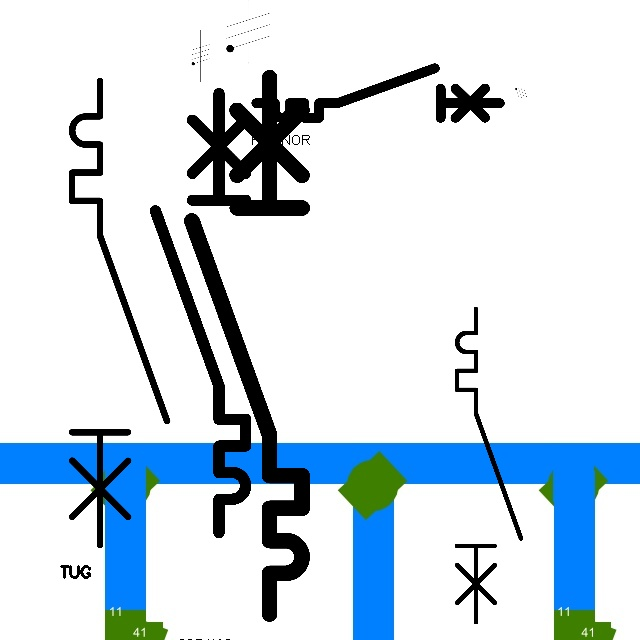interruptor_termomagnetico: (178, 63, 316, 628), (60, 69, 179, 557), (144, 82, 257, 543), (449, 301, 529, 630), (250, 62, 506, 124)
